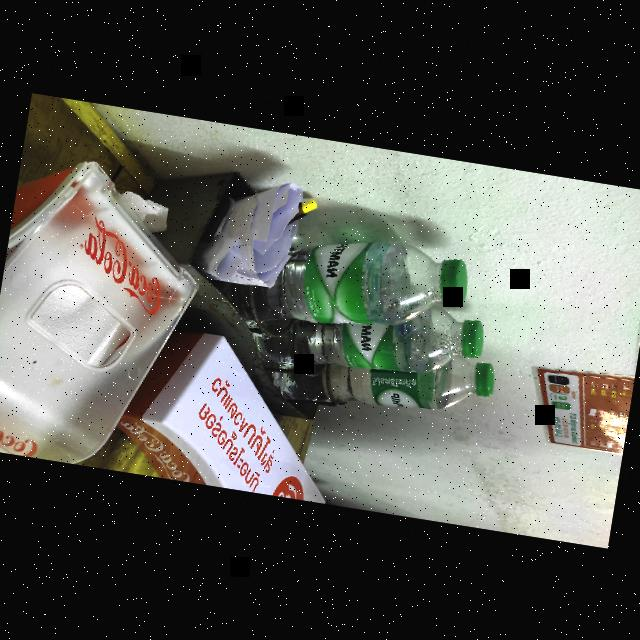plastic_bottle: (218, 213, 473, 348), (258, 265, 492, 402), (264, 316, 498, 441)
plastic_bottle_cap: (434, 253, 474, 310), (458, 318, 488, 358), (472, 361, 495, 398)
scrap_paper: (197, 172, 307, 293), (103, 184, 175, 237)
